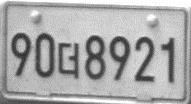0: (34, 32, 55, 78)
1: (159, 35, 176, 84)
2: (134, 35, 156, 83)
8: (83, 34, 106, 80)
9: (108, 35, 131, 82), (9, 31, 32, 77)
더: (57, 41, 80, 80)
